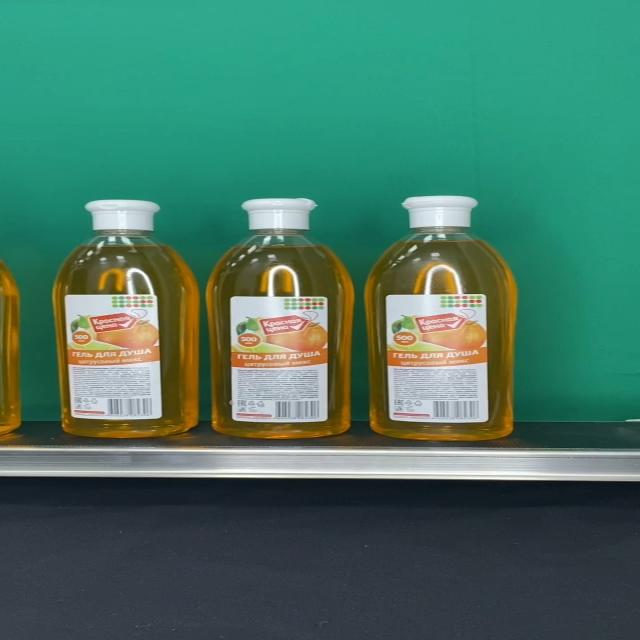Bottle: (366, 196, 516, 441), (206, 198, 354, 439), (53, 199, 199, 438)
Cap: (399, 196, 479, 228), (239, 198, 317, 230), (85, 199, 159, 231)
